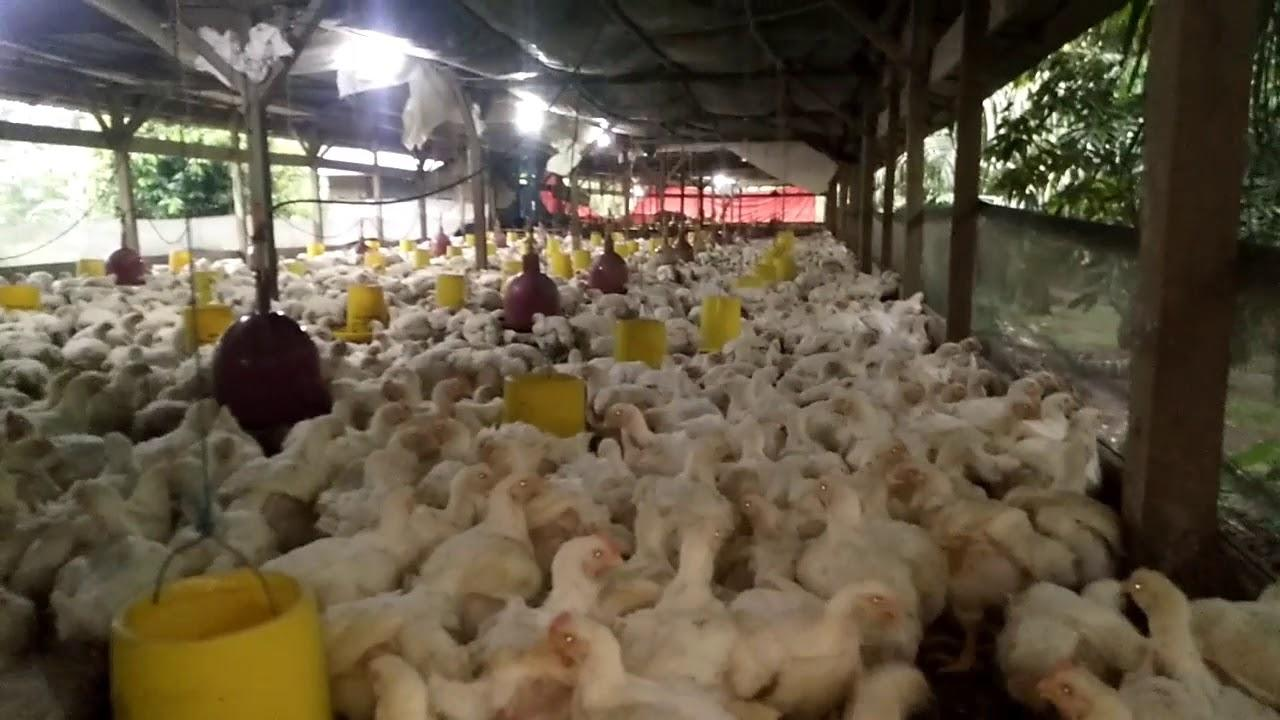chicken: (1117, 573, 1279, 720), (548, 618, 773, 720), (886, 467, 1044, 601), (736, 583, 900, 701), (806, 471, 916, 634), (481, 536, 626, 659), (623, 517, 734, 676), (277, 489, 420, 593), (436, 470, 546, 598), (1011, 406, 1114, 489), (599, 401, 691, 473), (737, 487, 804, 569), (958, 377, 1043, 423), (1010, 390, 1083, 438)
